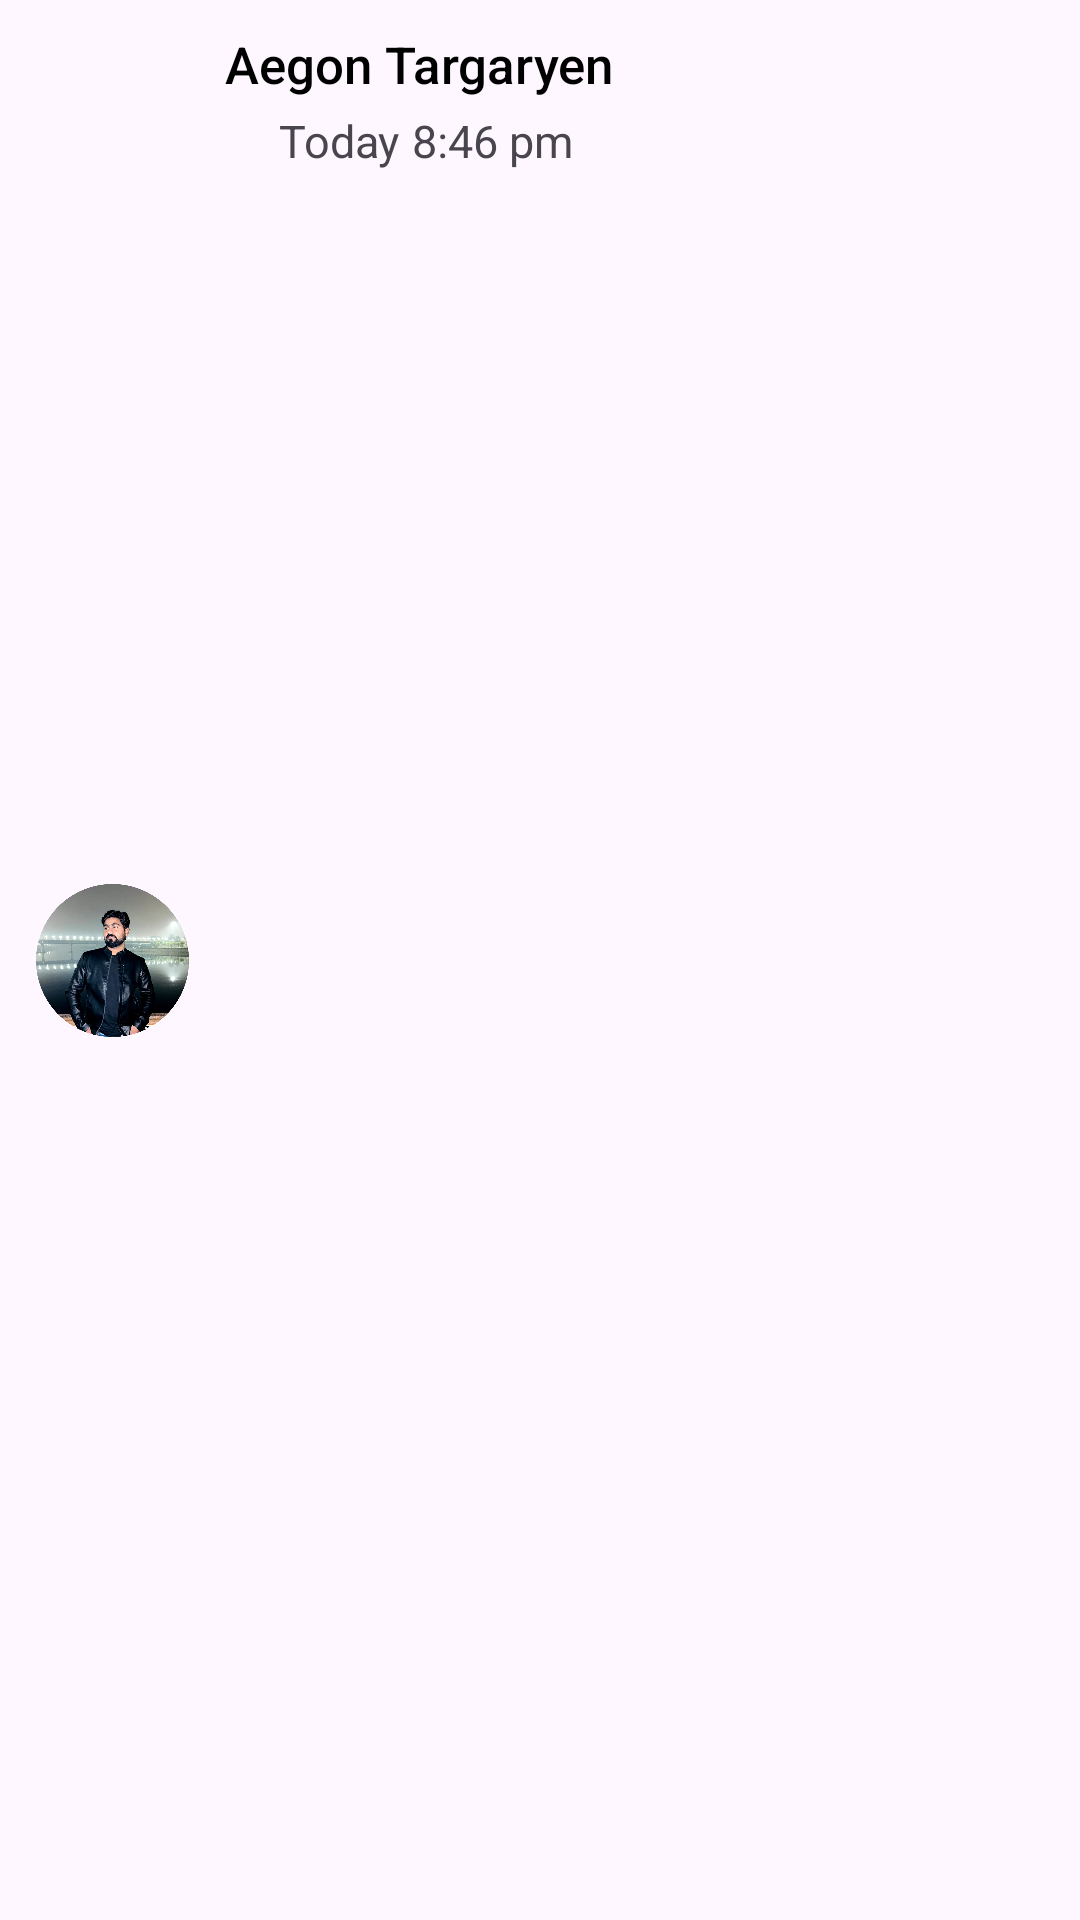

Where to tap for icons on this 1080x1920 app screen, as point (x, y):
profile: point (112, 960)
